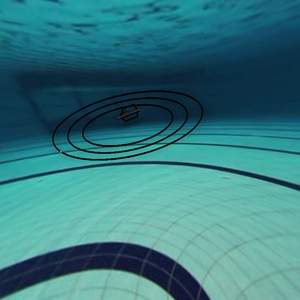circle: (47, 81, 209, 177)
submarine: (114, 101, 146, 123)
